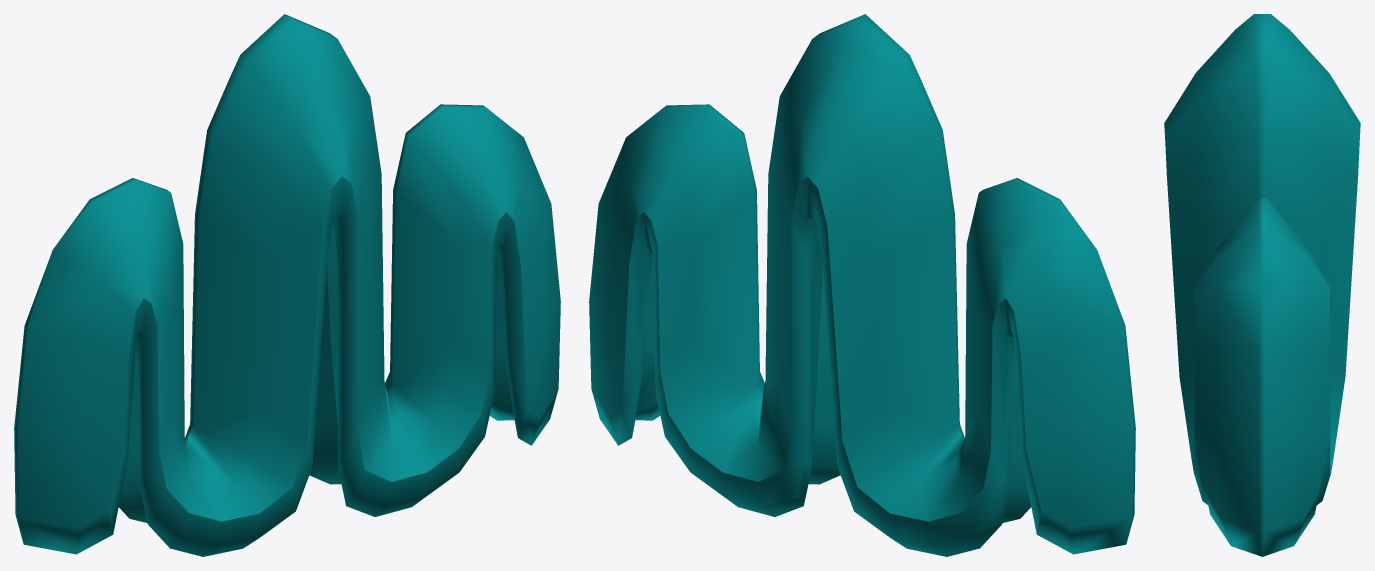
File: bush-2.glb
3 renders of one model, left to right at view 1: azimuth 30°, elevation 25°; view 2: azimuth 150°, elevation 25°; view 3: azimuth 270°, elevation 25°, orthographic. The views are drawn at different scales.
Visible parts, largest first — view 1: Bush_2; view 2: Bush_2; view 3: Bush_2.
Part boxes in pixels (x1,y1,x2,y2): Bush_2: (14,14,560,556); Bush_2: (589,14,1135,556); Bush_2: (1164,14,1360,556).
Size of the model in its own units: 1.81 by 1.59 by 0.6207.
